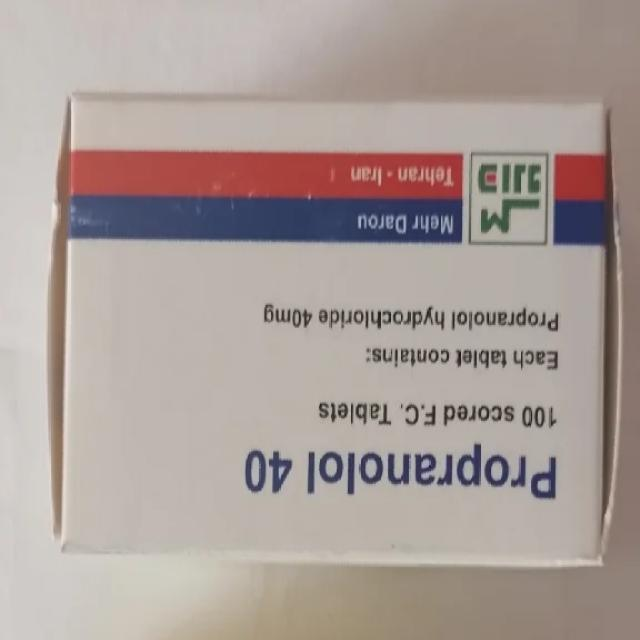drug-name: (240, 441, 566, 508)
